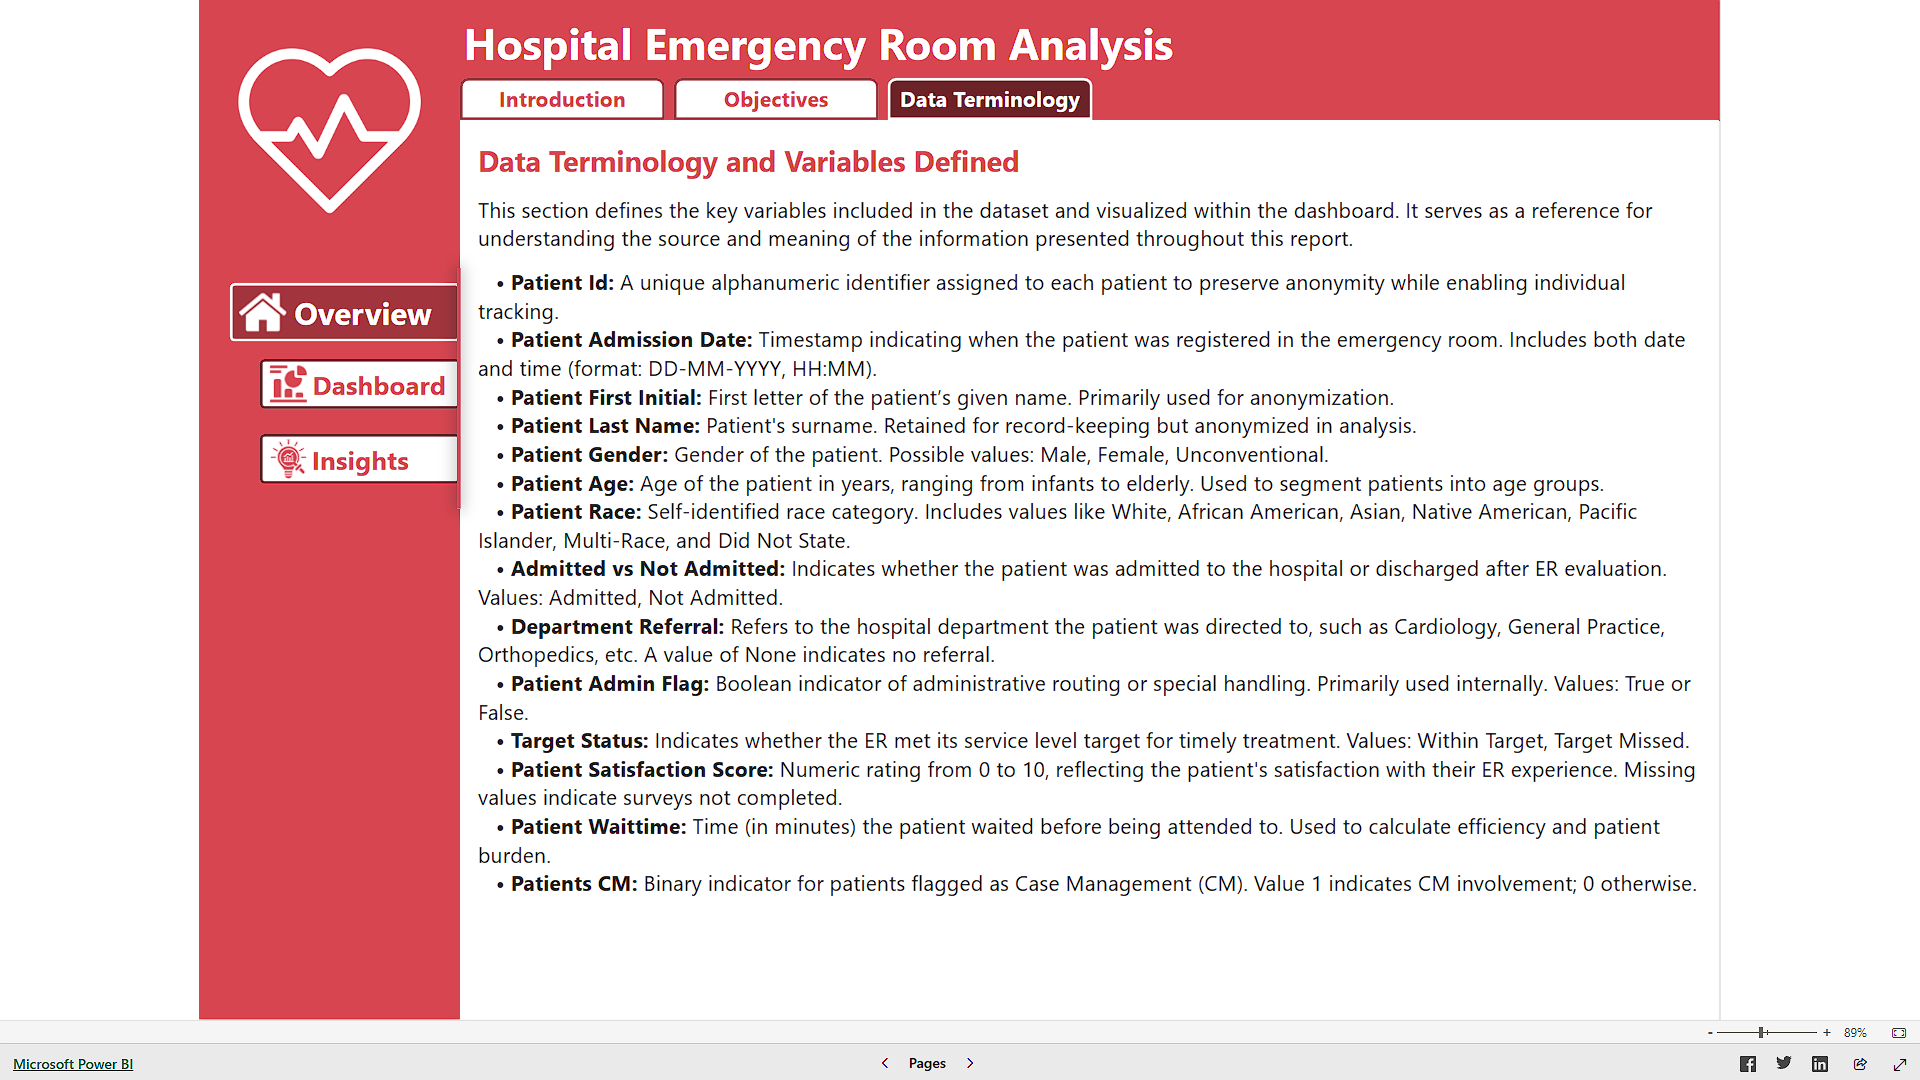

The page's visual inventory and layout, read from the dashboard file:
{"tool":"powerbi","page":{"name":"Data Terminology","canvas":[1700,1140],"ordinal":3},"visuals":[{"type":"shape","box":[0,0,292.2,1139.5],"z":0},{"type":"textbox","title":"Hospital Emergency Room Analysis","box":[290.8,14.7,938.4,91],"z":0,"group":"g1"},{"type":"actionButton","box":[34.3,316.7,257.4,65.4],"z":0,"group":"g2"},{"type":"shape","box":[292,0,1408,135],"z":1000},{"type":"actionButton","box":[67.7,401.6,224,55.7],"z":1000,"group":"g2"},{"type":"image","box":[0,38.6,291.4,214.3],"z":2000},{"type":"actionButton","box":[67.7,485.2,224,55.7],"z":2000,"group":"g2"},{"type":"shape","box":[291.4,134.3,1407.1,1005.7],"z":3000},{"type":"shape","box":[287.5,300,4.2,268.5],"z":3000,"group":"g2"},{"type":"pageNavigator","box":[292.2,87.7,709.6,47.3],"z":4000},{"type":"textbox","box":[292.2,135,1405.2,1004.5],"z":5000},{"type":"group","id":"g1","title":"Group 1","box":[290.8,14.7,938.4,91],"z":6000},{"type":"group","id":"g2","title":"Group 2","box":[34.3,300,257.4,268.5],"z":7000}]}

Visuals, with their boxes on the page's 1700x1140 design canvas (x1, y1, x2, y2). These are canvas units, not pixel positions in the 1920x1080 screenshot, which may show the page scaled, cropped or inside an application window:
shape: 0:0:292:1140
"Hospital Emergency Room Analysis" textbox: 291:15:1229:106
actionButton: 34:317:292:382
shape: 292:0:1700:135
actionButton: 68:402:292:457
image: 0:39:291:253
actionButton: 68:485:292:541
shape: 291:134:1698:1140
shape: 288:300:292:568
pageNavigator: 292:88:1002:135
textbox: 292:135:1697:1140
"Group 1" group: 291:15:1229:106
"Group 2" group: 34:300:292:568
